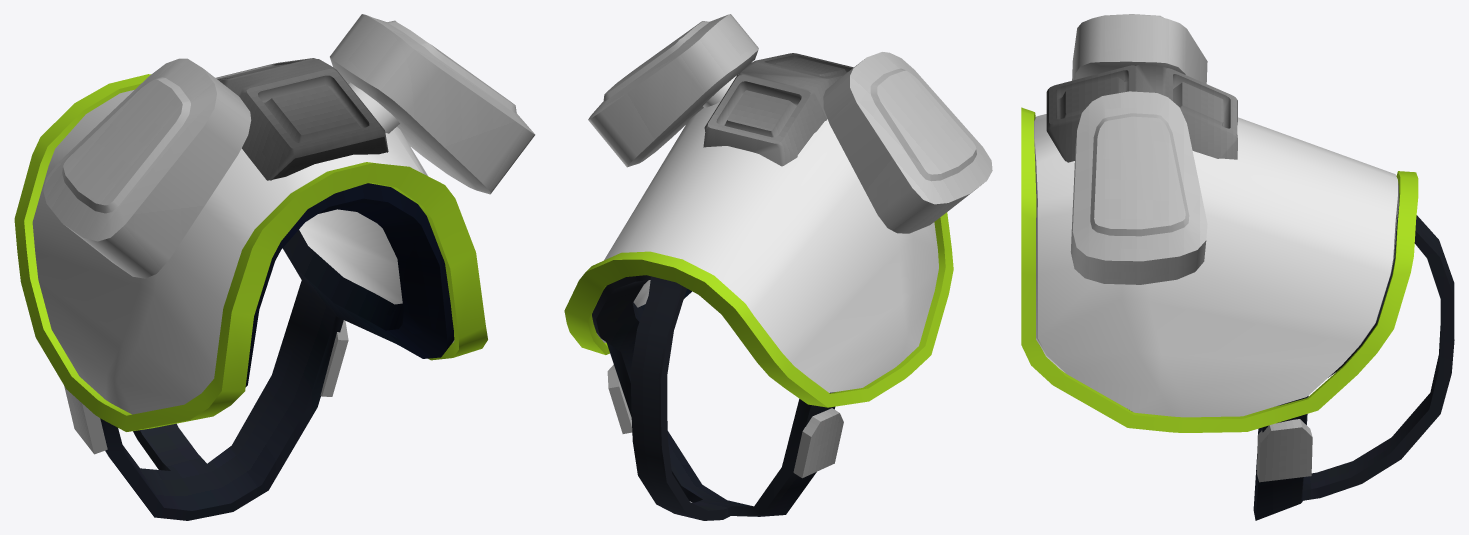
File: Gas mask.fbx
The picture shows the model from 3 angles, left to right: view 1: azimuth 30°, elevation 25°; view 2: azimuth 150°, elevation 25°; view 3: azimuth 270°, elevation 25°; orthographic projection. The views are drawn at different scales.
Parts seen in each view (by area): view 1: Glass; view 2: Glass; view 3: Glass.
Boxes of the visible parts, x1=… form: Glass: x1=14, y1=14, x2=535, y2=520; Glass: x1=564, y1=14, x2=992, y2=520; Glass: x1=1021, y1=14, x2=1454, y2=520.
Bounding box in the file's own units: 61.89 × 69.12 × 59.07.
Materials: 6 (4 with a texture image).
